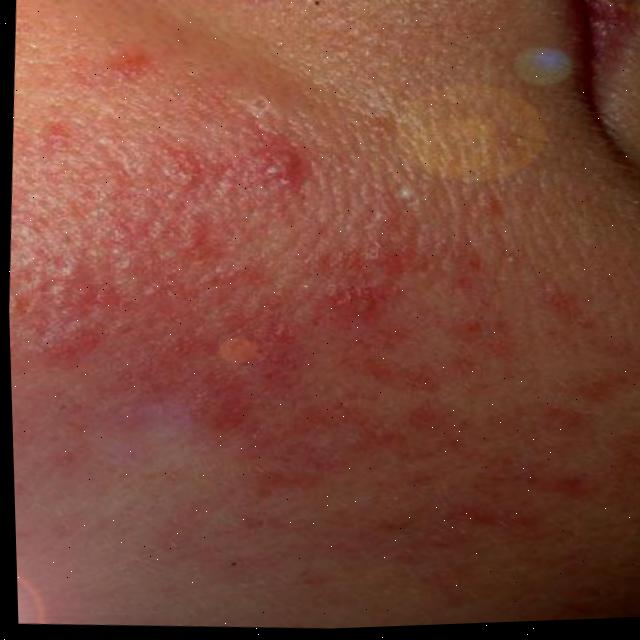Rosacea: (1, 7, 640, 631)
